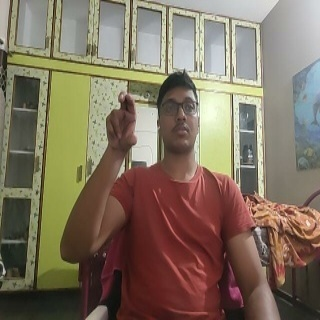No: (105, 90, 139, 153)
